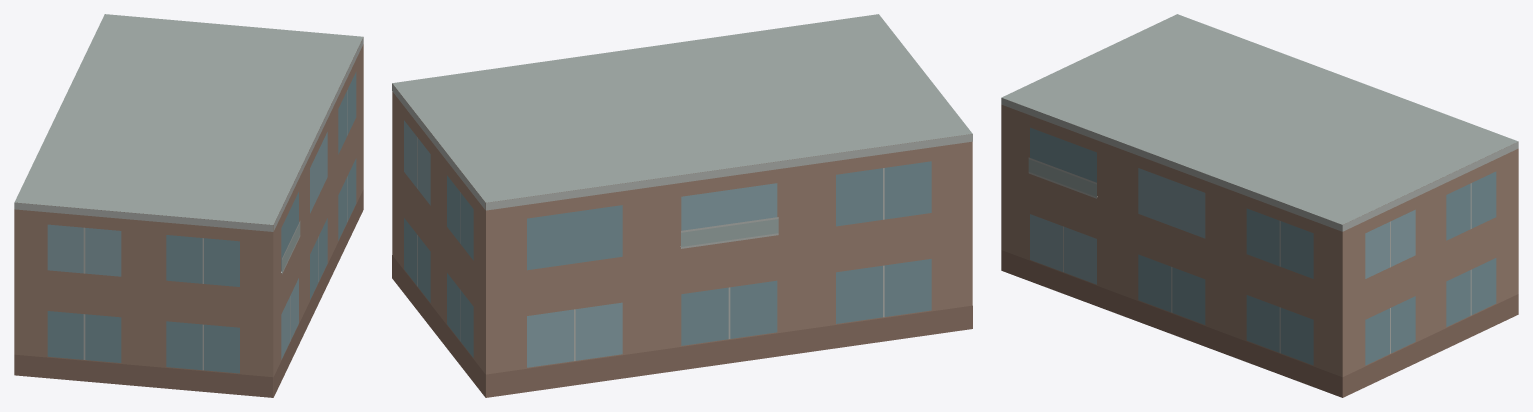
Rendered from survey-upis-32994229.glb.
3 renders of one model, left to right at view 1: azimuth 30°, elevation 25°; view 2: azimuth 150°, elevation 25°; view 3: azimuth 270°, elevation 25°, orthographic. The views are drawn at different scales.
Visible parts, largest first — view 1: survey-upis-32994229.tmp; view 2: survey-upis-32994229.tmp; view 3: survey-upis-32994229.tmp.
Part boxes in pixels (<box>): survey-upis-32994229.tmp: <box>14,14,363,397</box>; survey-upis-32994229.tmp: <box>392,14,972,397</box>; survey-upis-32994229.tmp: <box>1001,14,1518,397</box>.
Bounding box in the file's own units: 15.96 × 6.1 × 16.54.
